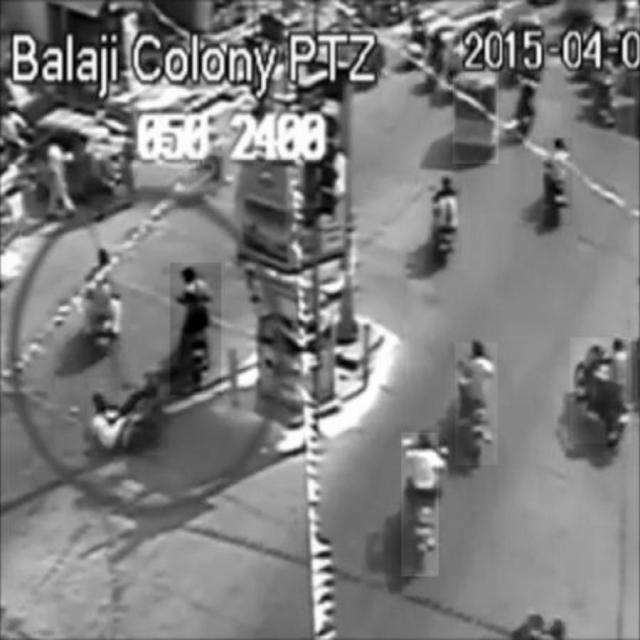vehicle: (170, 262, 221, 394), (571, 338, 632, 444), (89, 378, 166, 455), (455, 342, 499, 466), (403, 432, 440, 576), (85, 248, 129, 361), (453, 73, 499, 164), (432, 173, 460, 264), (544, 138, 572, 226)
